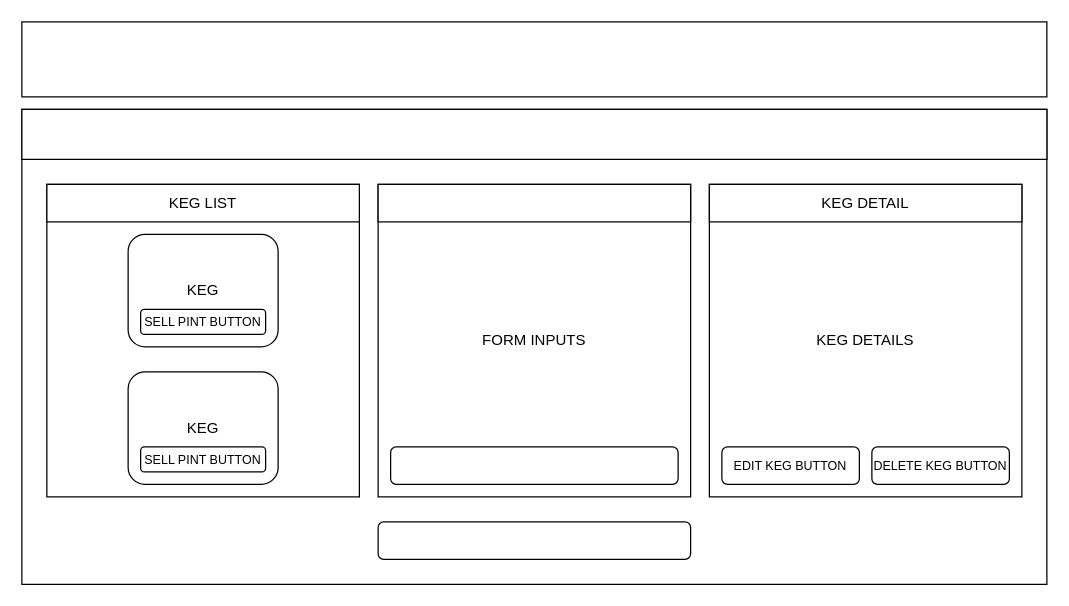
Image size: 1069x606. Some labels were removed from this diagram. The shapes that lost their labels are listed below. From the top down, each one's centre as x and y in pixels, then its label:
At (x=534, y=59): "HEADER".
At (x=534, y=133): "KEG CONTROL".
At (x=534, y=202): "ADD KEG / EDIT KEG FORM".
At (x=533, y=465): "ADD KEG / UPDATE KEG BUTTON".
At (x=534, y=540): "ADD KEG / RETURN TO LIST BUTTON".
